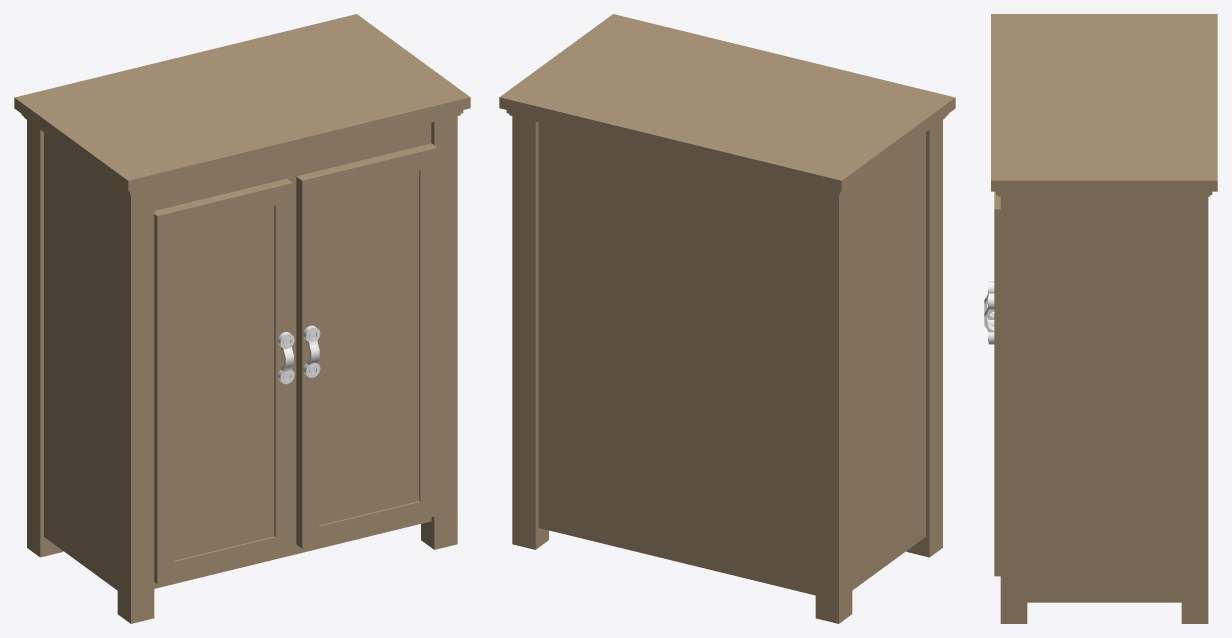
Rendered from Wardrobe.fbx.
The picture shows the model from 3 angles, left to right: view 1: azimuth 30°, elevation 25°; view 2: azimuth 150°, elevation 25°; view 3: azimuth 270°, elevation 25°; orthographic projection.
Visible parts, largest first — view 1: wardrobe2; view 2: wardrobe2; view 3: wardrobe2.
Part boxes in pixels (left/top/right/bottom): wardrobe2: left=14, top=14, right=470, bottom=623; wardrobe2: left=499, top=14, right=955, bottom=623; wardrobe2: left=984, top=14, right=1217, bottom=623.
Bounding box in the file's own units: 449 × 562 × 266.
